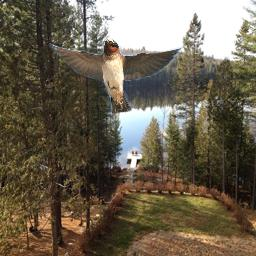Swallow: (46, 38, 184, 115)
